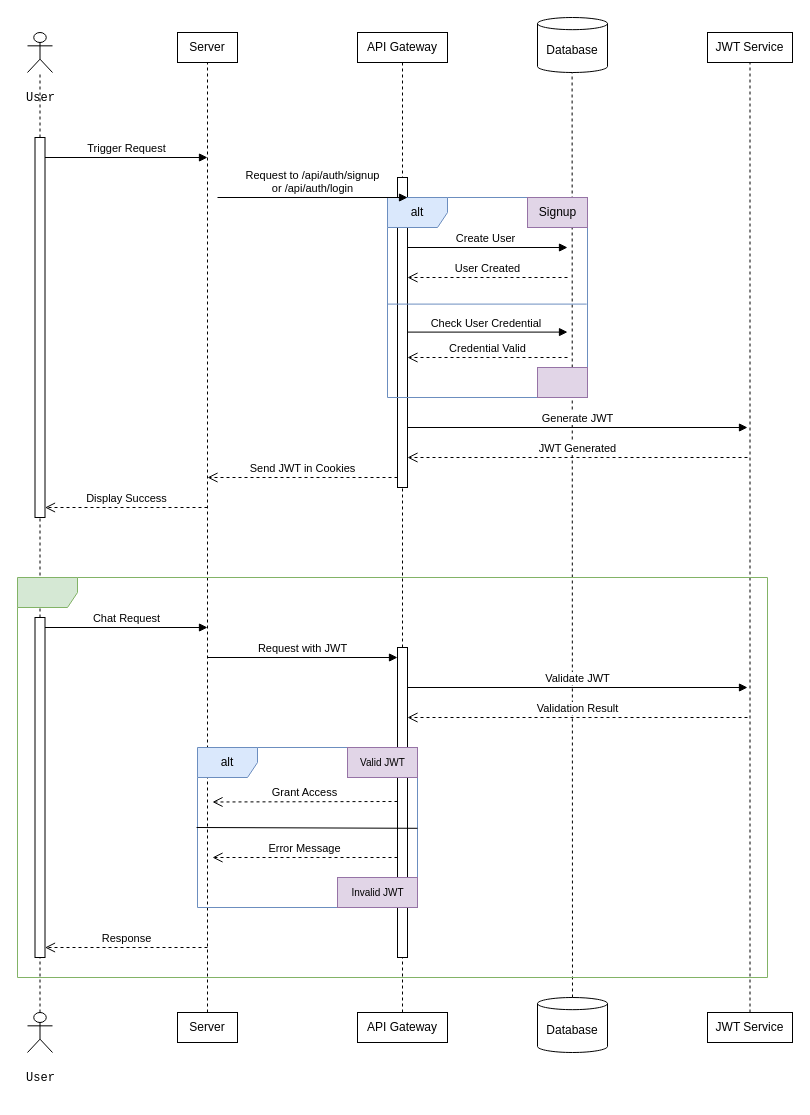
This 810x1115 diagram has some shape labels left out. Each missing label, with the centre of its shape:
"Login" belongs at (562,382).
"Loop" belongs at (392,777).
